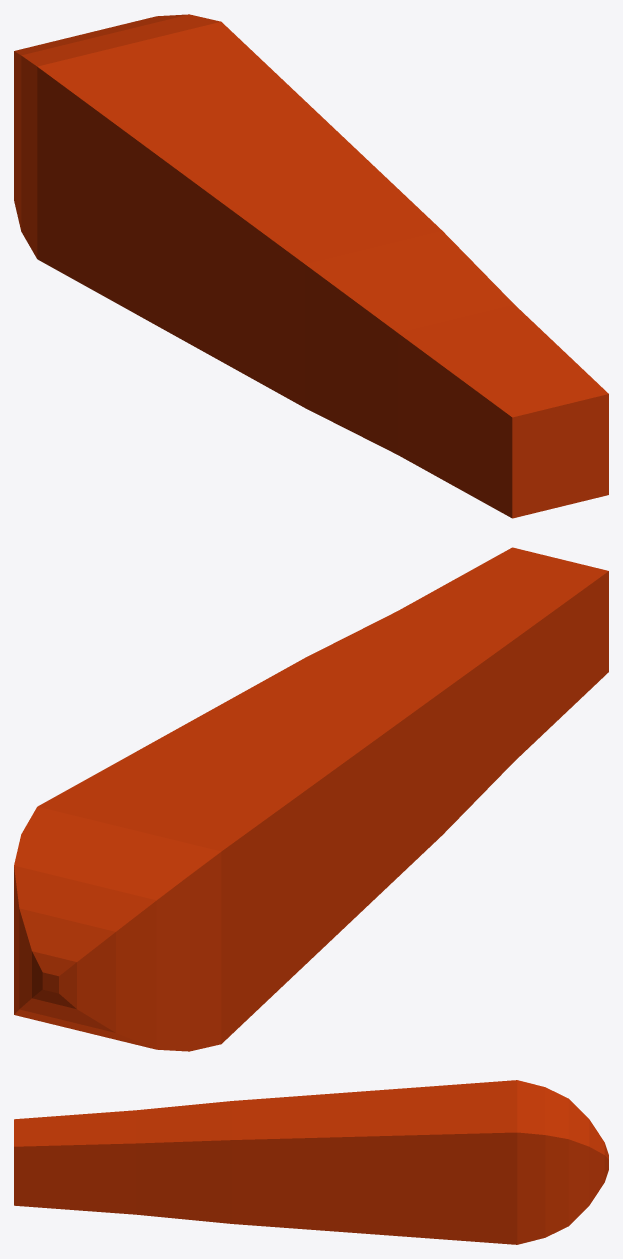
File: orangeLight.obj
3 views of the same model, one above another, from view 1: azimuth 30°, elevation 25°; view 2: azimuth 150°, elevation 25°; view 3: azimuth 270°, elevation 25° (orthographic). The views are drawn at different scales.
Parts seen in each view (by area): view 1: Cube_Cube.037; view 2: Cube_Cube.037; view 3: Cube_Cube.037.
Boxes of the visible parts, x1,y1,x2,y2 form: Cube_Cube.037: (14, 14, 608, 518); Cube_Cube.037: (14, 547, 608, 1051); Cube_Cube.037: (14, 1080, 608, 1244).
Bounding box in the file's own units: 0.07 × 0.07 × 0.3355.
